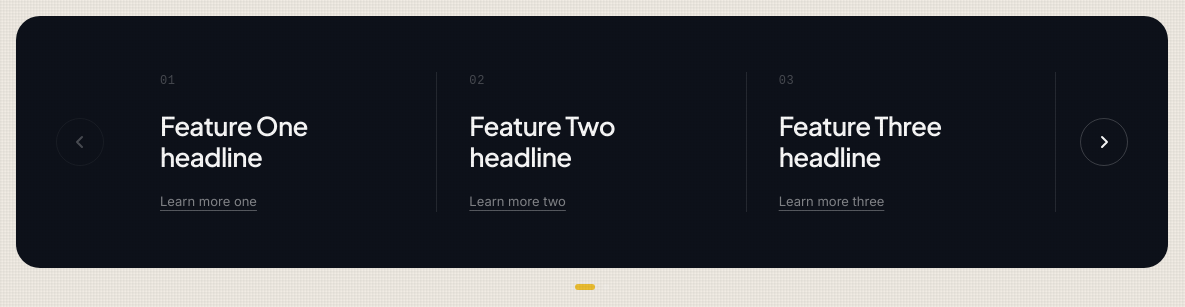
Test: FeaturesCarousel › clicking next then prev returns to start (prev disabled again)
Step 1. Click the button named "Next" → (1104, 142), box [1080,118,1128,166]
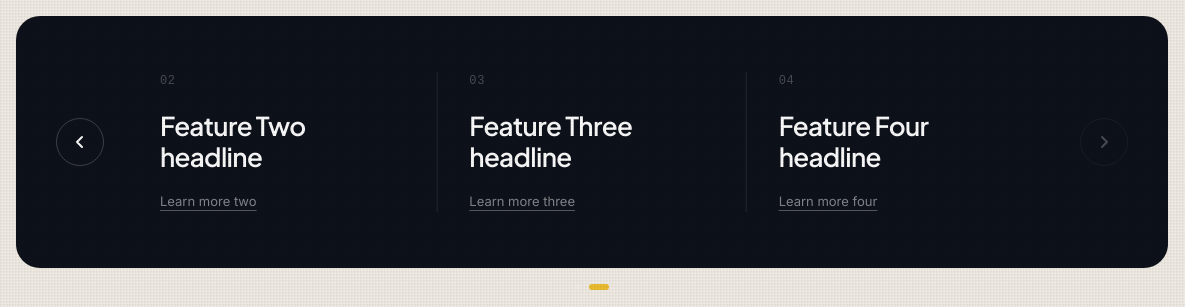
Step 2. Click the button named "Previous" → (80, 142), box [56,118,104,166]
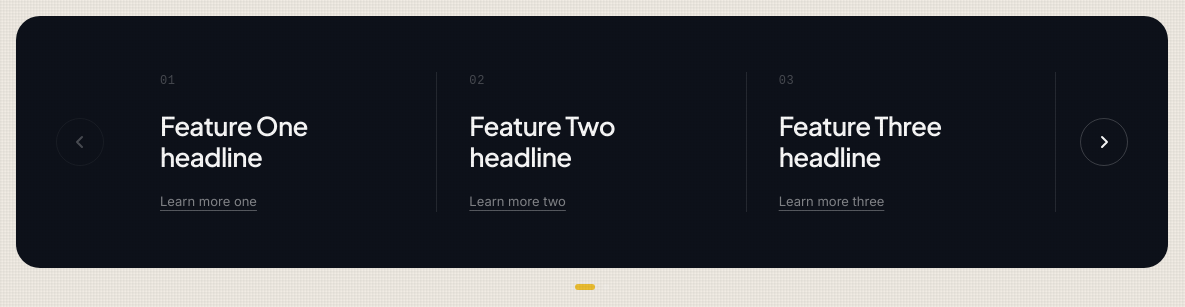
Expected: the button named "Previous" is disabled, [56,118,104,166]
